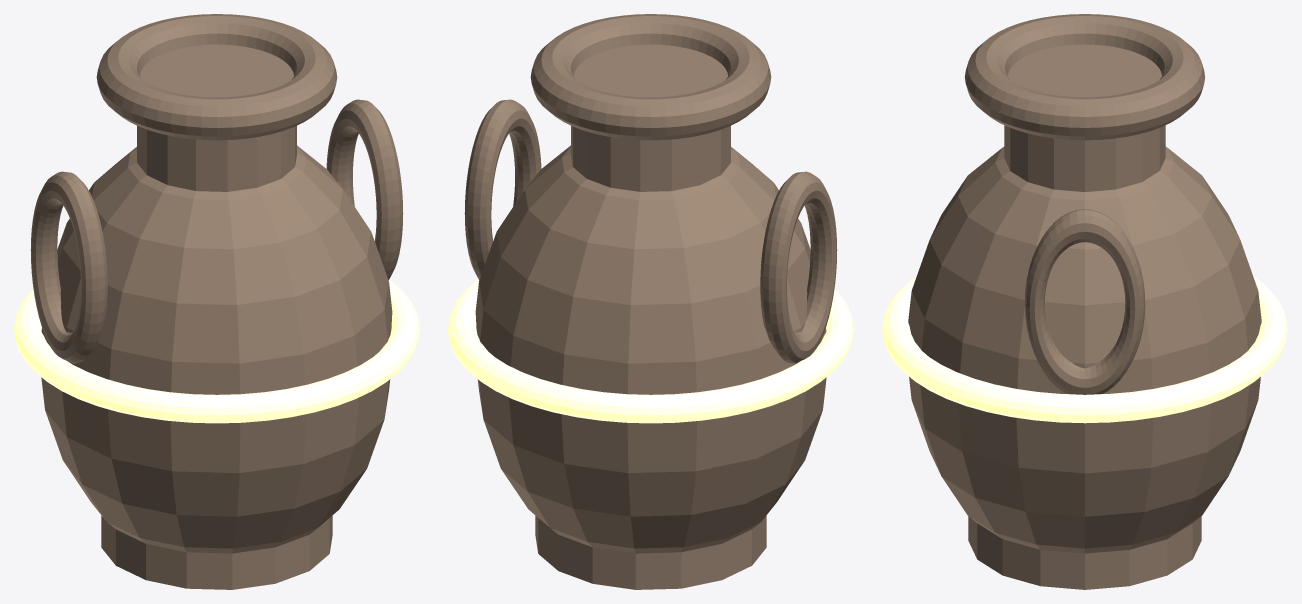
File: SunScorchedUrn.glb
The picture shows the model from 3 angles, left to right: view 1: azimuth 30°, elevation 25°; view 2: azimuth 150°, elevation 25°; view 3: azimuth 270°, elevation 25°; orthographic projection.
Visible parts, largest first — view 1: SunScorchedUrn; view 2: SunScorchedUrn; view 3: SunScorchedUrn.
Part boxes in pixels (box(x1,y1,x2,y2)): SunScorchedUrn: box(14, 14, 419, 589); SunScorchedUrn: box(448, 14, 853, 589); SunScorchedUrn: box(882, 14, 1287, 589).
Size of the model in its own units: 2.26 by 3.07 by 2.26.
